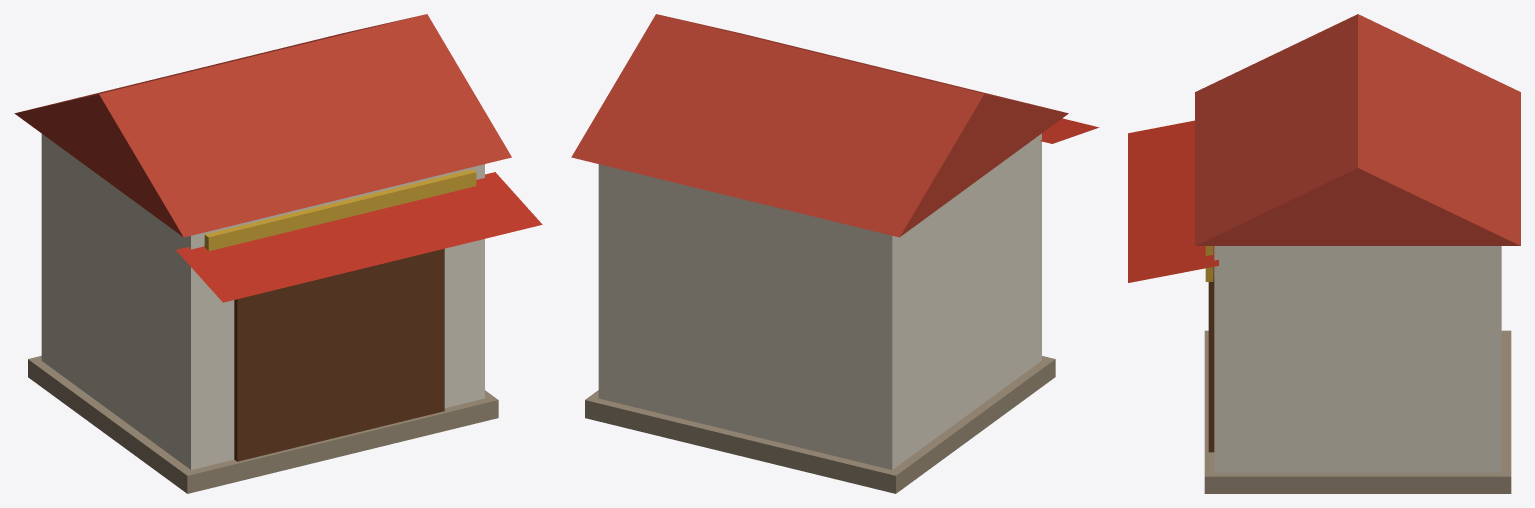
Rendered from tiem-tap-hoa-trang.glb.
3 renders of one model, left to right at view 1: azimuth 30°, elevation 25°; view 2: azimuth 150°, elevation 25°; view 3: azimuth 270°, elevation 25°, orthographic. The views are drawn at different scales.
Parts seen in each view (by area): view 1: tiem-tap-hoa-trang; view 2: tiem-tap-hoa-trang; view 3: tiem-tap-hoa-trang.
Part boxes in pixels (box(x1,y1,x2,y2)): tiem-tap-hoa-trang: box(14, 14, 542, 493); tiem-tap-hoa-trang: box(571, 14, 1099, 493); tiem-tap-hoa-trang: box(1128, 14, 1520, 493).
Size of the model in its own units: 3.8 by 3.8 by 4.1.
